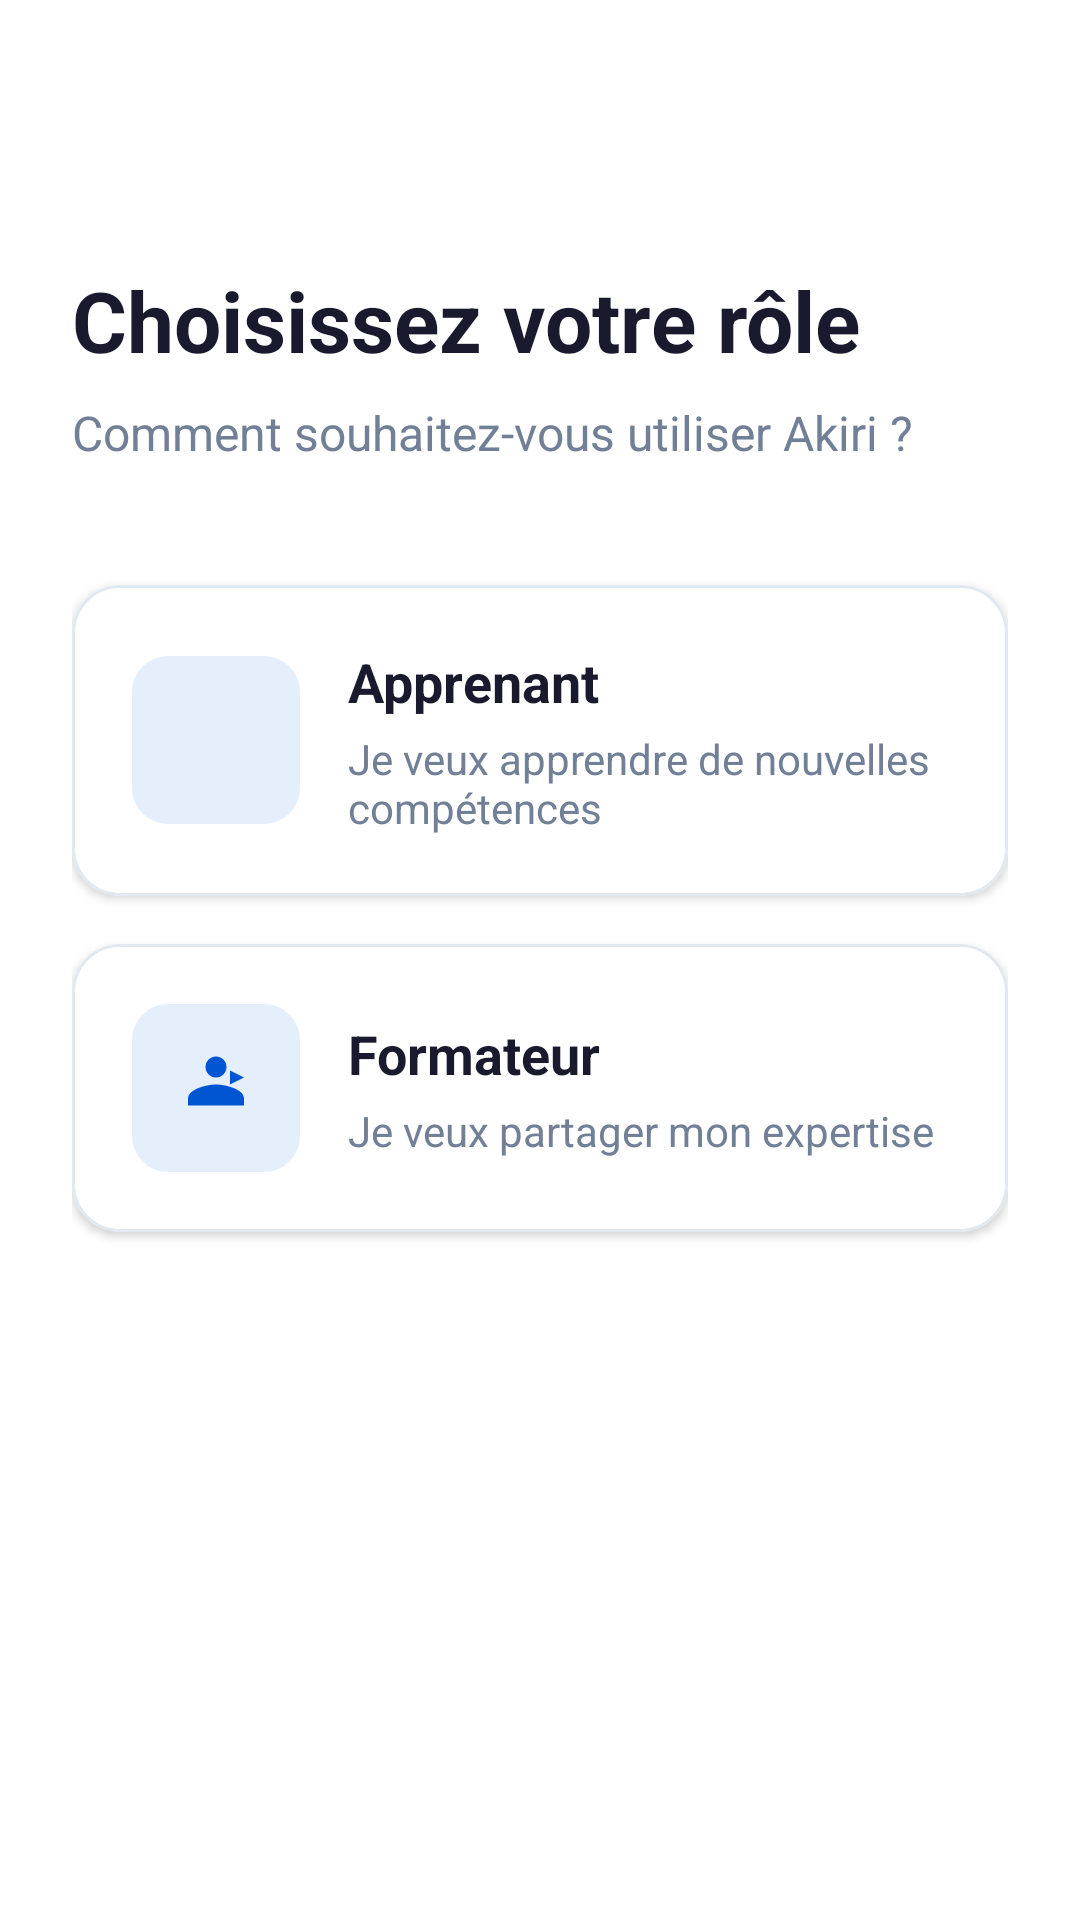

Icons on this 1080 x 1920 Android screen, each with the point to tap as [x,y]:
trainer: [216,1081]
